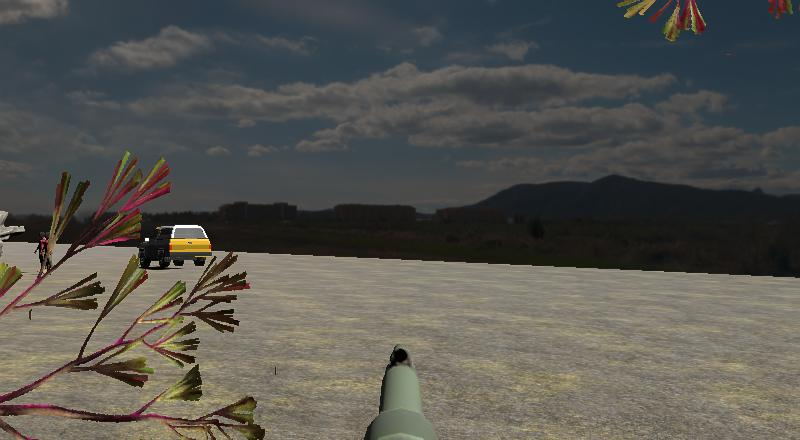car: (137, 222, 214, 269)
